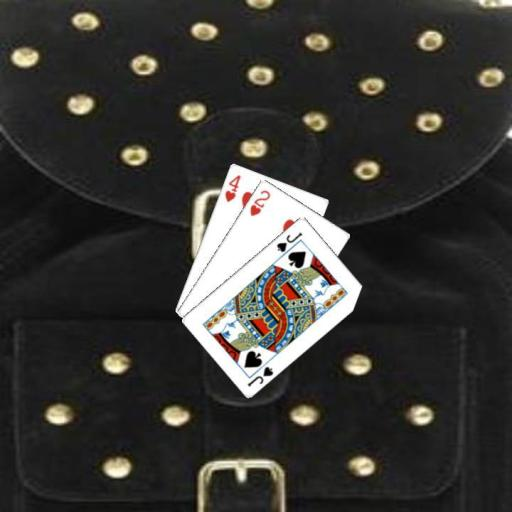2H: (247, 186, 272, 218)
4H: (221, 172, 242, 204)
JS: (273, 229, 304, 254), (244, 363, 275, 388)
